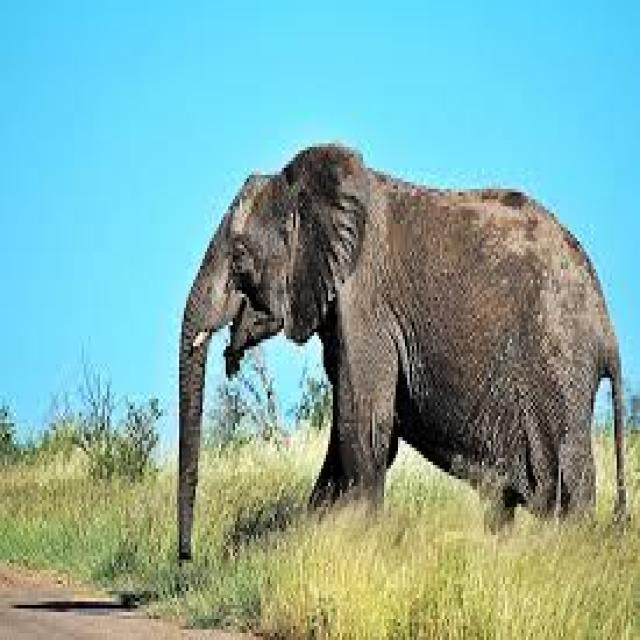Elephant: (174, 140, 628, 559)
